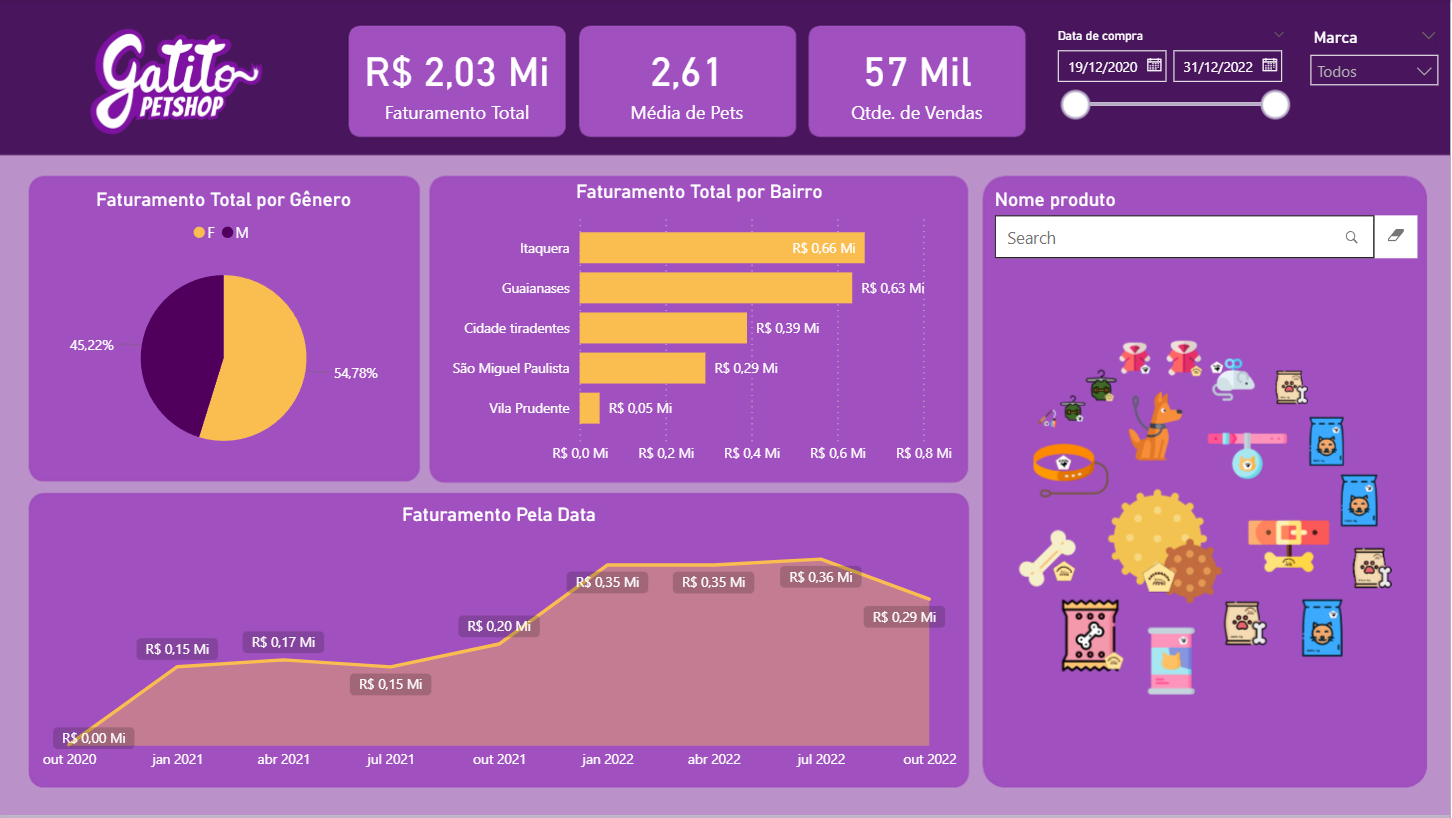

What the dashboard file says about the page in this screenshot:
{"tool":"powerbi","page":{"name":"Página 1","canvas":[1280,720],"ordinal":0},"visuals":[{"type":"card","fields":{"Values":["Avg(Clientes.Pets)"]},"box":[510.8,21.2,192.3,100.6],"z":0},{"type":"card","fields":{"Values":["Sum(Vendas.Quantidade)"]},"box":[713.7,21.2,192.3,100.6],"z":1000},{"type":"card","fields":{"Values":["Vendas.faturamento_total"]},"box":[307,21.2,194.1,100.6],"z":2000},{"type":"pieChart","fields":{"Category":["Clientes.Gênero"],"Y":["Vendas.Faturamento Total"]},"box":[32.9,166.6,331.2,252.4],"z":3000},{"type":"clusteredBarChart","fields":{"Category":["Clientes.Bairro"],"Y":["Vendas.Faturamento Total"]},"box":[386.4,159.7,463.1,259.4],"z":4000},{"type":"areaChart","title":"Faturamento Pela Data","fields":{"Category":["Vendas.Data de compra.Variation.Hierarquia de datas.Ano","Vendas.Data de compra.Variation.Hierarquia de datas.Trimestre","Vendas.Data de compra.Variation.Hierarquia de datas.Mês","Vendas.Data de compra.Variation.Hierarquia de datas.Dia"],"Y":["Vendas.Faturamento Total"]},"box":[32.9,445,817.1,244.4],"z":5000},{"type":"ImageGrid_FC5183B9_926C_45E0_B5F7_0CE9EAF1DA9B","fields":{"ImageURL":["Produtos.Url img"]},"box":[873.3,225.8,382.9,463.1],"z":6000},{"type":"textFilter25A4896A83E0487089E2B90C9AE57C8A","fields":{"field":["Produtos.Nome produto"]},"box":[873.3,166.7,382.9,86.5],"z":7000},{"type":"slicer","fields":{"Values":["Produtos.Marca"]},"box":[1146.8,21.2,133.2,100.6],"z":8000},{"type":"slicer","fields":{"Values":["Vendas.Data de compra"]},"box":[921,21.2,225.8,100.6],"z":9000}]}

Visuals, with their boxes in screenshot pixels (x1, y1, x2, y2), scaled from the page's 1280x720 canvas onto the 1452x818 screenshot:
card - Avg(Clientes.Pets): crop(579, 24, 798, 138)
card - Sum(Vendas.Quantidade): crop(810, 24, 1028, 138)
card - Vendas.faturamento_total: crop(348, 24, 568, 138)
pieChart - Clientes.Gênero x Vendas.Faturamento Total: crop(37, 189, 413, 476)
clusteredBarChart - Clientes.Bairro x Vendas.Faturamento Total: crop(438, 181, 964, 476)
"Faturamento Pela Data" areaChart: crop(37, 506, 964, 783)
ImageGrid_FC5183B9_926C_45E0_B5F7_0CE9EAF1DA9B - Produtos.Url img: crop(991, 257, 1425, 783)
textFilter25A4896A83E0487089E2B90C9AE57C8A - Produtos.Nome produto: crop(991, 189, 1425, 288)
slicer - Produtos.Marca: crop(1301, 24, 1451, 138)
slicer - Vendas.Data de compra: crop(1045, 24, 1301, 138)
